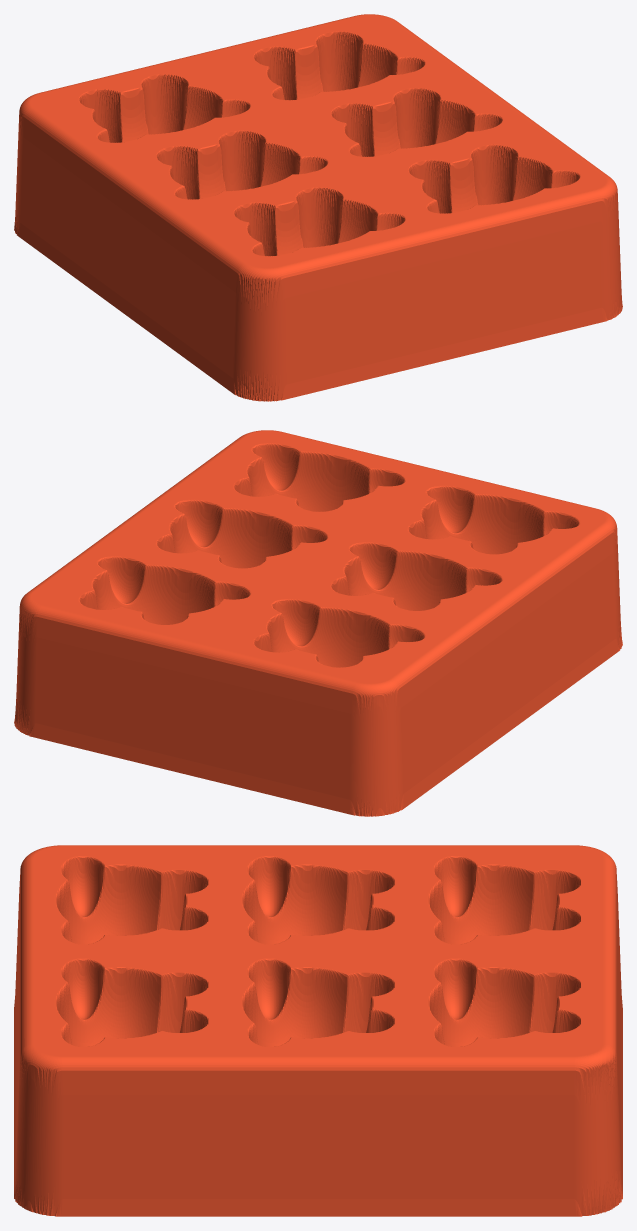
File: mold.glb
The picture shows the model from 3 angles, top to bottom: view 1: azimuth 30°, elevation 25°; view 2: azimuth 150°, elevation 25°; view 3: azimuth 270°, elevation 25°; orthographic projection. The views are drawn at different scales.
Visible parts, largest first — view 1: geometry_0; view 2: geometry_0; view 3: geometry_0.
Part boxes in pixels (x1,y1,x2,y2): geometry_0: [14, 14, 622, 401]; geometry_0: [14, 430, 622, 816]; geometry_0: [14, 845, 622, 1216].
Size of the model in its own units: 0.0996 by 0.0312 by 0.1132.
